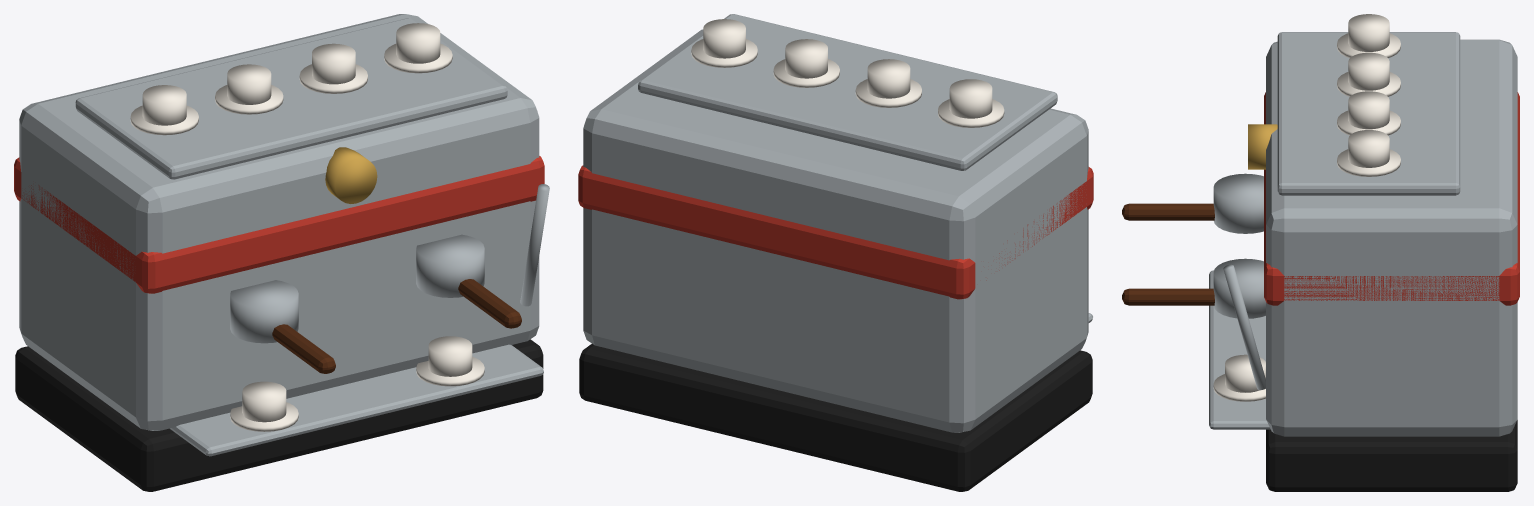
File: kaffee-3-espresso.glb
3 views of the same model, side by side, from view 1: azimuth 30°, elevation 25°; view 2: azimuth 150°, elevation 25°; view 3: azimuth 270°, elevation 25° (orthographic). The views are drawn at different scales.
Visible parts, largest first — view 1: Cube, Cube.003, Cube.001, Cube.002, Cube.004, Cylinder.001, Cylinder.004, Cylinder, Cylinder.005, Cylinder.002, Cylinder.014, Cylinder.010 (+11 smaller); view 2: Cube, Cube.001, Cube.003, Cube.002, Cylinder.010, Cylinder.008, Cylinder.014, Cylinder.012, Cylinder.015, Cylinder.009, Cylinder.011, Cylinder.013; view 3: Cube, Cube.003, Cube.001, Cube.002, Cube.004, Cylinder.001, Cylinder.004, Cube.005, Cube.006, Cylinder.007, Cylinder.012, Cylinder.010 (+9 smaller).
Part boxes in pixels (<box>): Cube: <box>19,14,539,430</box>; Cube.003: <box>75,18,507,179</box>; Cube.001: <box>15,339,543,491</box>; Cube.002: <box>14,156,544,293</box>; Cube.004: <box>170,344,543,456</box>; Cylinder.001: <box>230,280,298,343</box>; Cylinder.004: <box>416,234,484,297</box>; Cylinder: <box>325,147,377,203</box>; Cylinder.005: <box>428,336,472,376</box>; Cylinder.002: <box>242,381,286,422</box>; Cylinder.014: <box>396,23,440,63</box>; Cylinder.010: <box>227,64,271,104</box>; Cube: <box>583,29,1088,432</box>; Cube.001: <box>579,344,1092,491</box>; Cube.003: <box>638,14,1057,170</box>; Cube.002: <box>578,165,1093,299</box>; Cylinder.010: <box>867,59,910,98</box>; Cylinder.008: <box>949,79,992,118</box>; Cylinder.014: <box>703,19,745,58</box>; Cylinder.012: <box>785,39,827,78</box>; Cylinder.015: <box>691,39,757,67</box>; Cylinder.009: <box>938,99,1004,127</box>; Cylinder.011: <box>855,79,921,107</box>; Cylinder.013: <box>773,59,839,87</box>; Cube: <box>1266,39,1517,436</box>; Cube.003: <box>1277,32,1460,195</box>; Cube.001: <box>1266,420,1517,491</box>; Cube.002: <box>1264,92,1519,305</box>; Cube.004: <box>1209,270,1270,429</box>; Cylinder.001: <box>1213,173,1263,233</box>; Cylinder.004: <box>1213,258,1265,318</box>; Cube.005: <box>1122,203,1214,220</box>; Cube.006: <box>1122,288,1214,305</box>; Cylinder.007: <box>1223,264,1265,390</box>; Cylinder.012: <box>1348,91,1389,129</box>; Cylinder.010: <box>1348,52,1389,90</box>.
Size of the model in its own units: 0.95 by 0.78 by 0.87.
